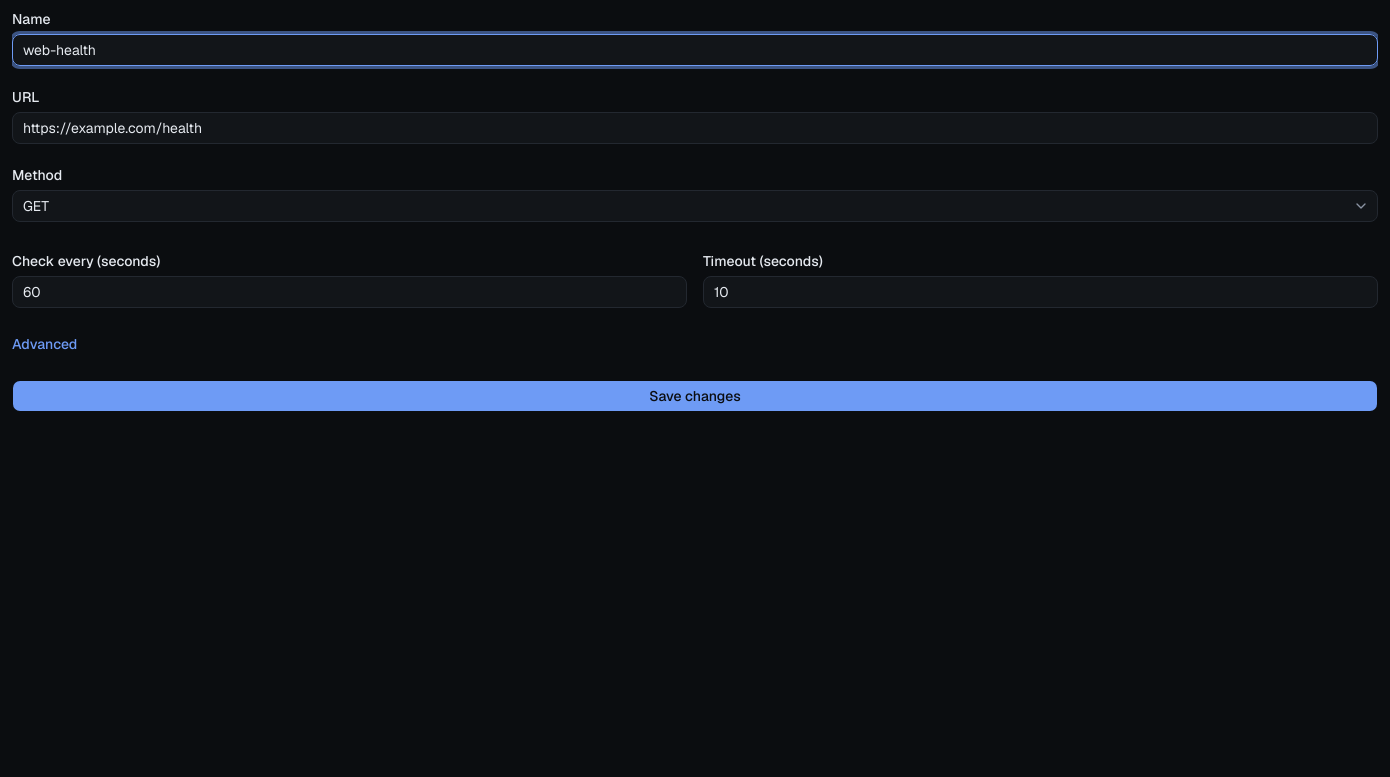
Test: MonitorForm › pre-fills advanced HTTP fields from an existing monitor
Expected: the field labelled "Name" holds "web-health", [12,34,1378,66]
Expected: the field labelled "URL" holds "https://example.com/health", [12,112,1378,144]
Click the button "Advanced".
click(45, 344)  # box [12,334,77,354]
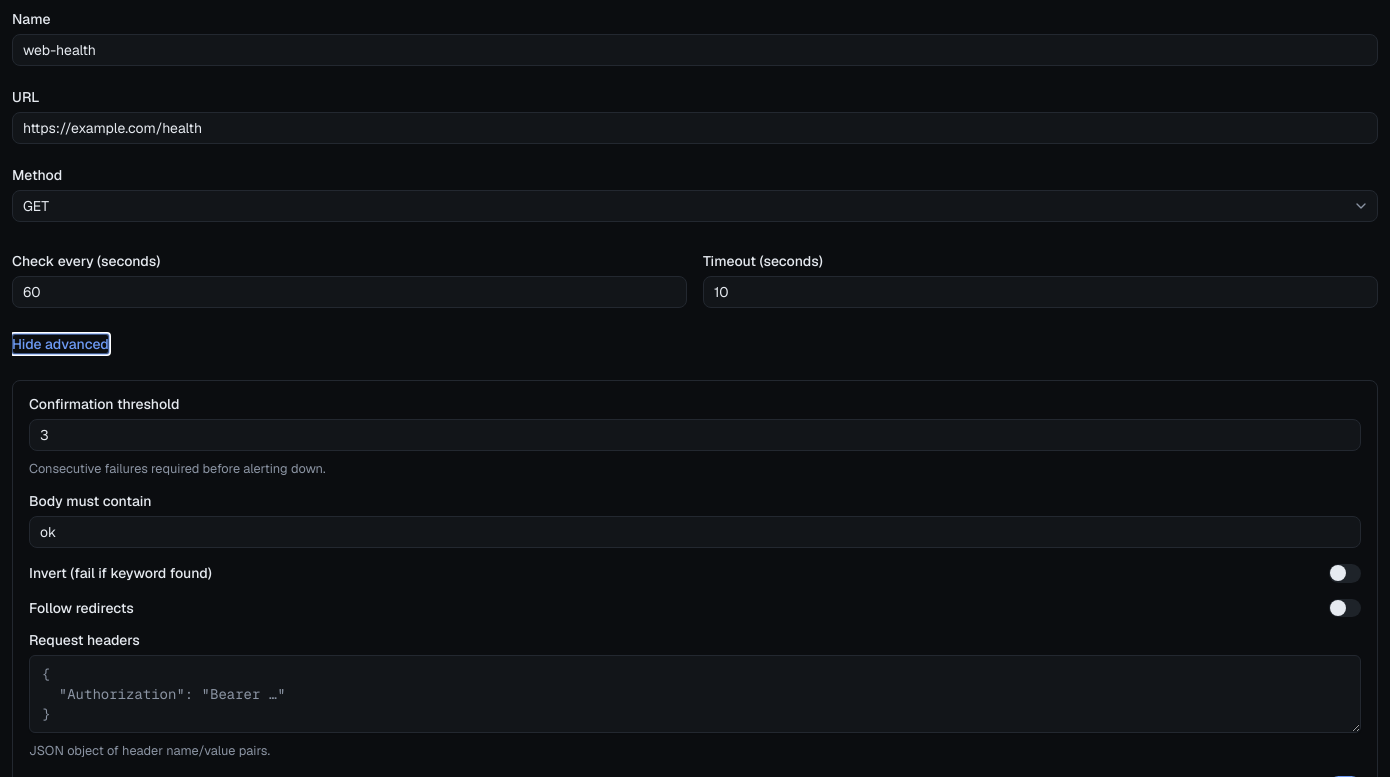
Expected: the number field labelled "Confirmation threshold" holds "3", [29,419,1361,451]
Expected: the field labelled "Body must contain" holds "ok", [29,516,1361,548]
